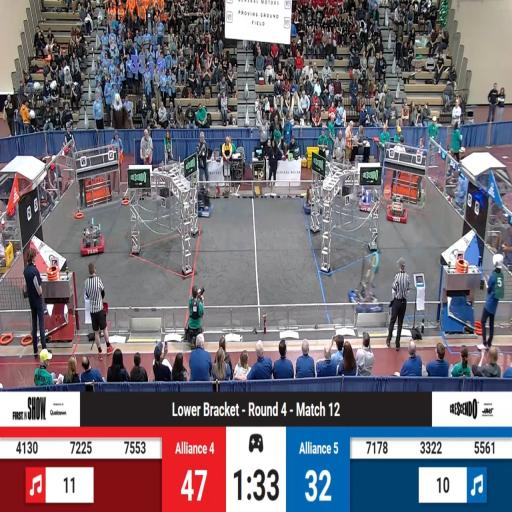robot: (348, 261, 380, 311), (81, 217, 105, 255), (194, 186, 212, 217), (386, 199, 408, 224), (357, 189, 377, 211)
